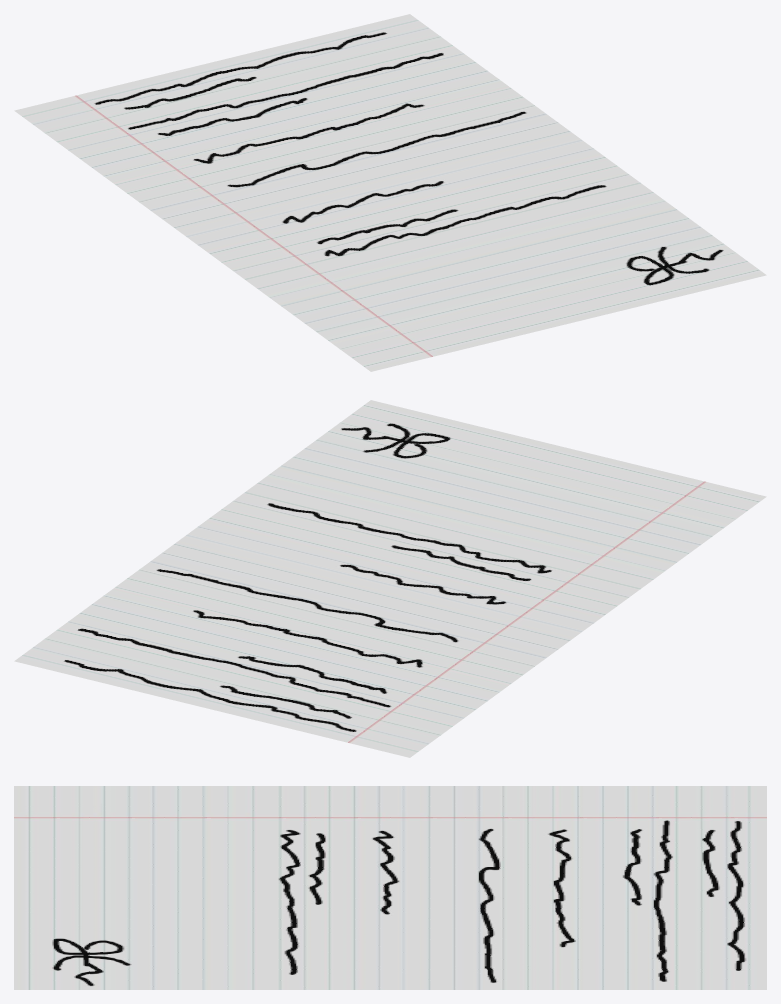
The model's file is Paper.fbx.
The picture shows the model from 3 angles, top to bottom: view 1: azimuth 30°, elevation 25°; view 2: azimuth 150°, elevation 25°; view 3: azimuth 270°, elevation 25°; orthographic projection. The views are drawn at different scales.
Parts seen in each view (by area): view 1: Plane; view 2: Plane; view 3: Plane.
Part boxes in pixels (x1,y1,x2,y2): Plane: [14, 14, 766, 371]; Plane: [14, 400, 766, 757]; Plane: [14, 786, 766, 989].
Bounding box in the file's own units: 123 × 3.13e-05 × 192.
1 material, 1 textured.
